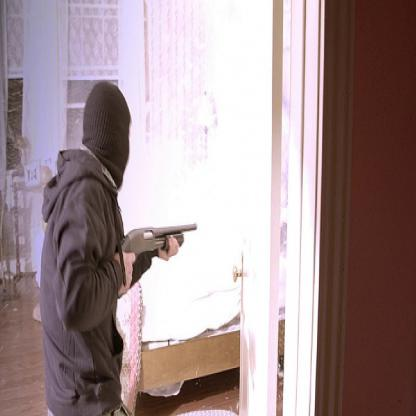Gun: (114, 218, 198, 274)
